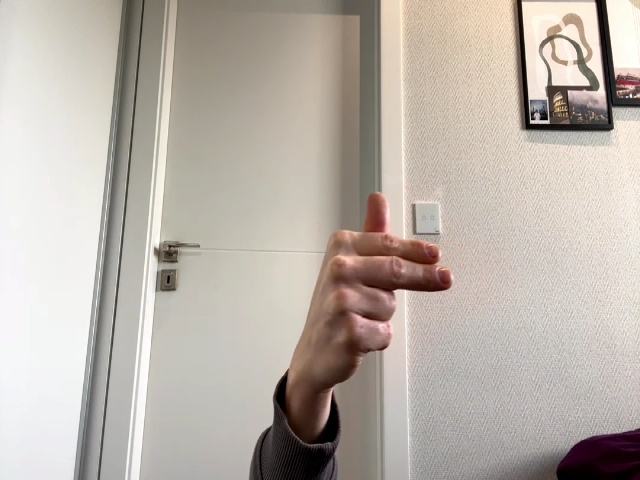N: (313, 192, 452, 367)
